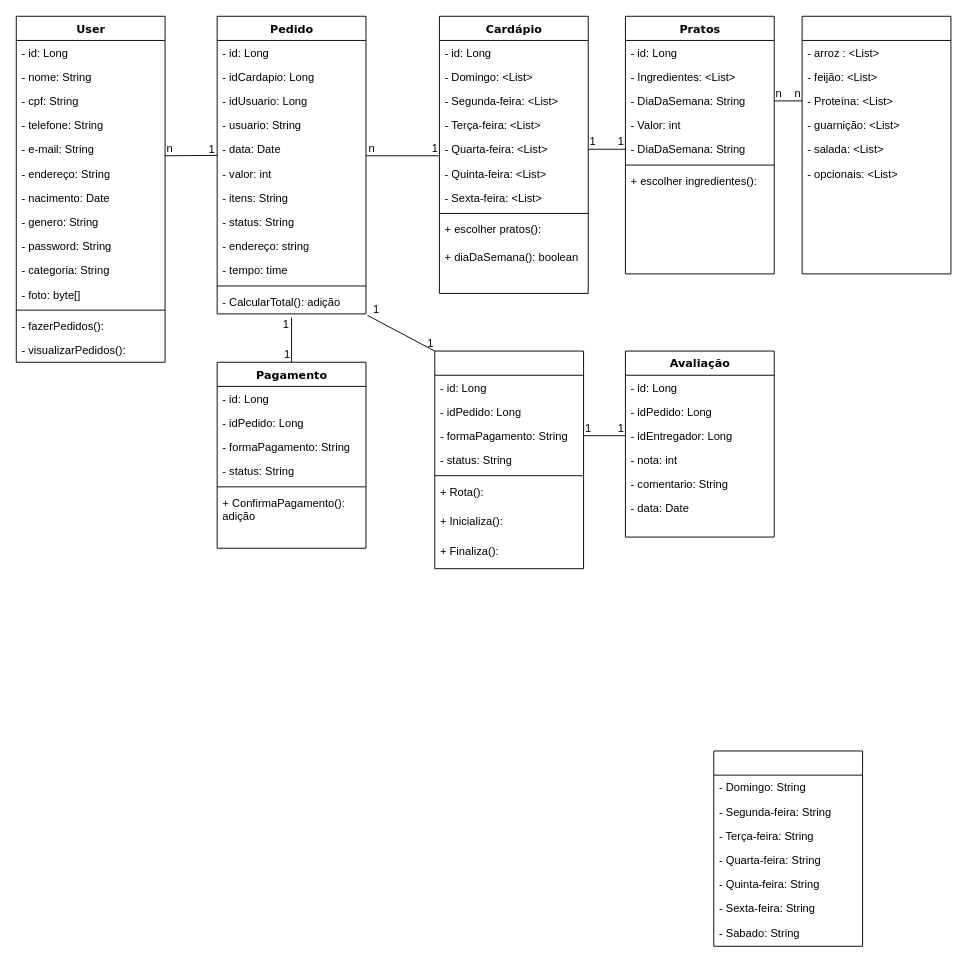
Image size: 967x963. Some labels were removed from this diagram. Each missing label, with the box of its shape:
ClassDiaSemana: (713, 750, 863, 946)
Entrega: (434, 350, 584, 569)
Ingredientes: (801, 15, 951, 274)
